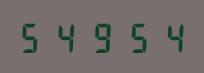five: (18, 20, 50, 53), (117, 20, 149, 53)
four: (51, 20, 83, 53), (150, 20, 182, 53)
nine: (84, 20, 116, 53)
